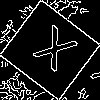X: (25, 24, 80, 81)
